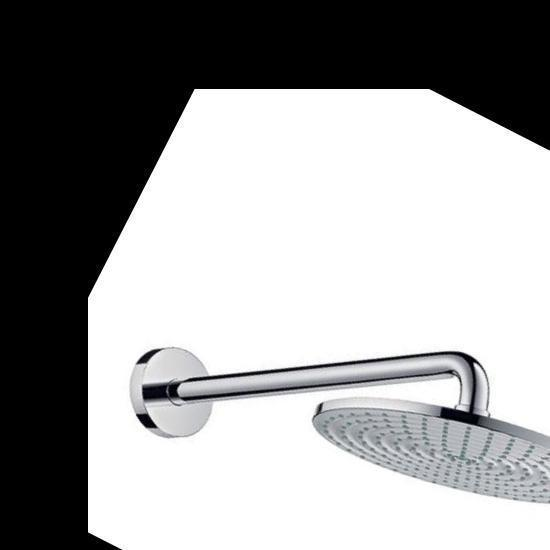Ducha: (81, 150, 550, 550)
